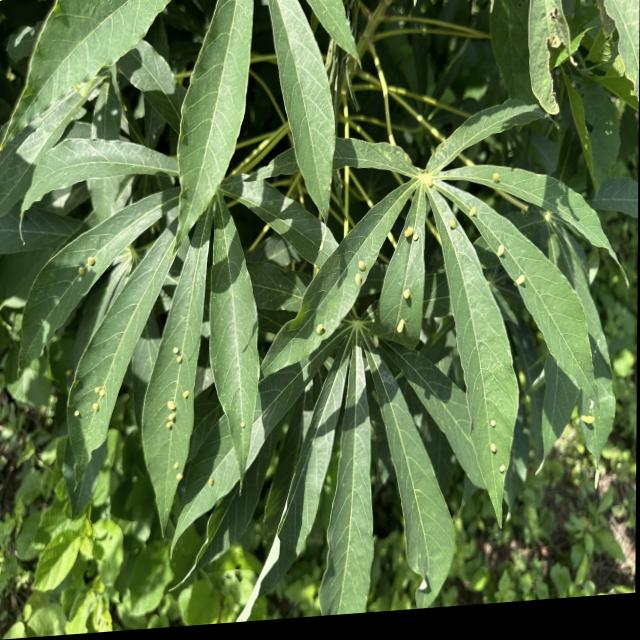Maleza: (6, 451, 151, 636)
Mosca: (476, 416, 508, 477), (396, 279, 417, 344), (72, 248, 101, 281), (512, 268, 542, 299), (85, 380, 107, 415), (351, 257, 370, 296), (166, 452, 185, 489), (462, 199, 485, 226), (162, 394, 178, 432), (399, 219, 421, 242), (578, 407, 602, 428), (310, 319, 328, 346), (169, 338, 186, 365), (494, 247, 516, 267), (489, 170, 507, 193), (68, 401, 87, 421), (179, 383, 196, 404)
